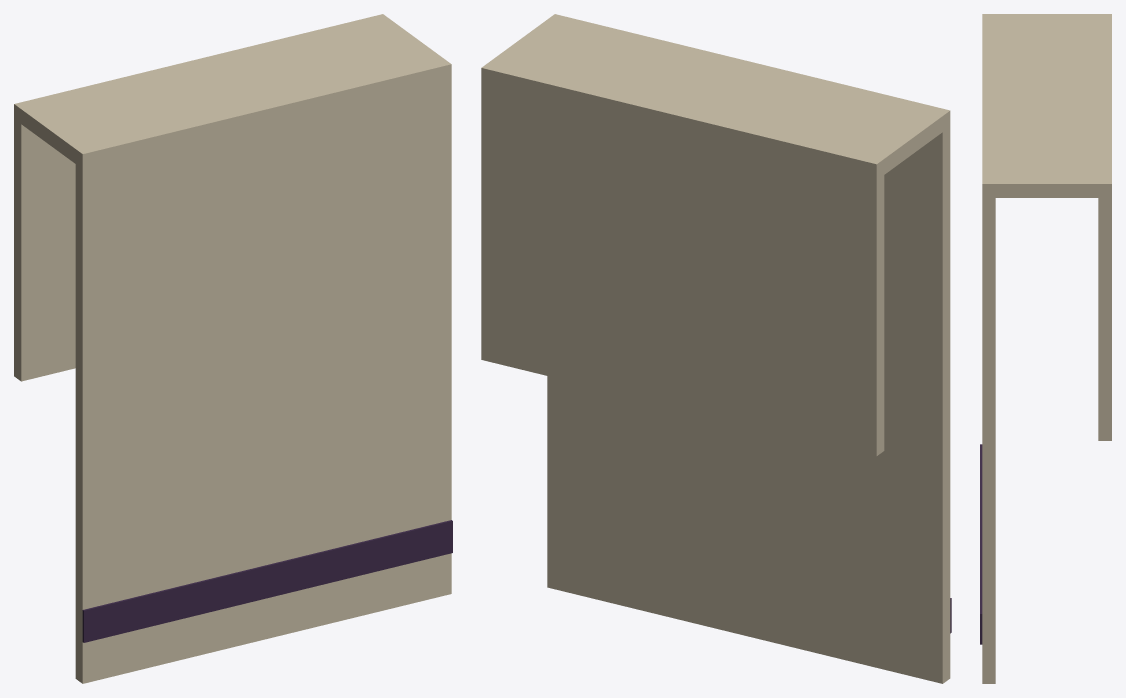
Rendered from towel-draped-white.glb.
The picture shows the model from 3 angles, left to right: view 1: azimuth 30°, elevation 25°; view 2: azimuth 150°, elevation 25°; view 3: azimuth 270°, elevation 25°; orthographic projection. The views are drawn at different scales.
Parts seen in each view (by area): view 1: paper, accent-purple; view 2: paper; view 3: paper, accent-purple.
Boxes of the visible parts, x1,y1,x2,y2 form: paper: (14,14,451,683); accent-purple: (82,520,452,642); paper: (481,14,950,683); paper: (982,14,1111,683); accent-purple: (980,444,982,644).
Bounding box in the file's own units: 0.36 × 0.494 × 0.118.
